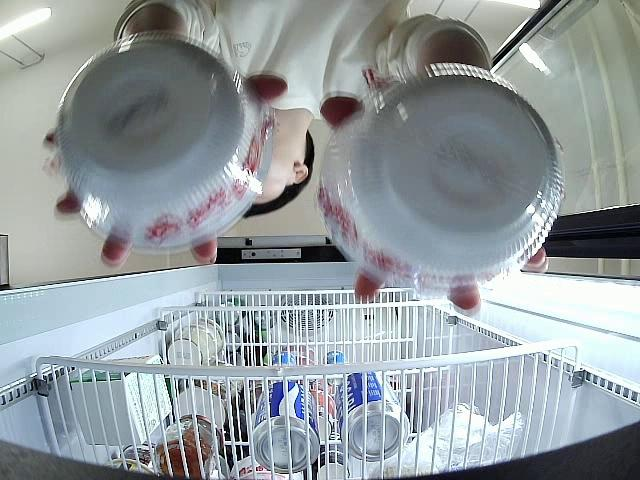00_hand: (319, 95, 549, 313), (43, 74, 289, 268)
09_yukGaeJang: (316, 61, 564, 293), (56, 37, 269, 253)
